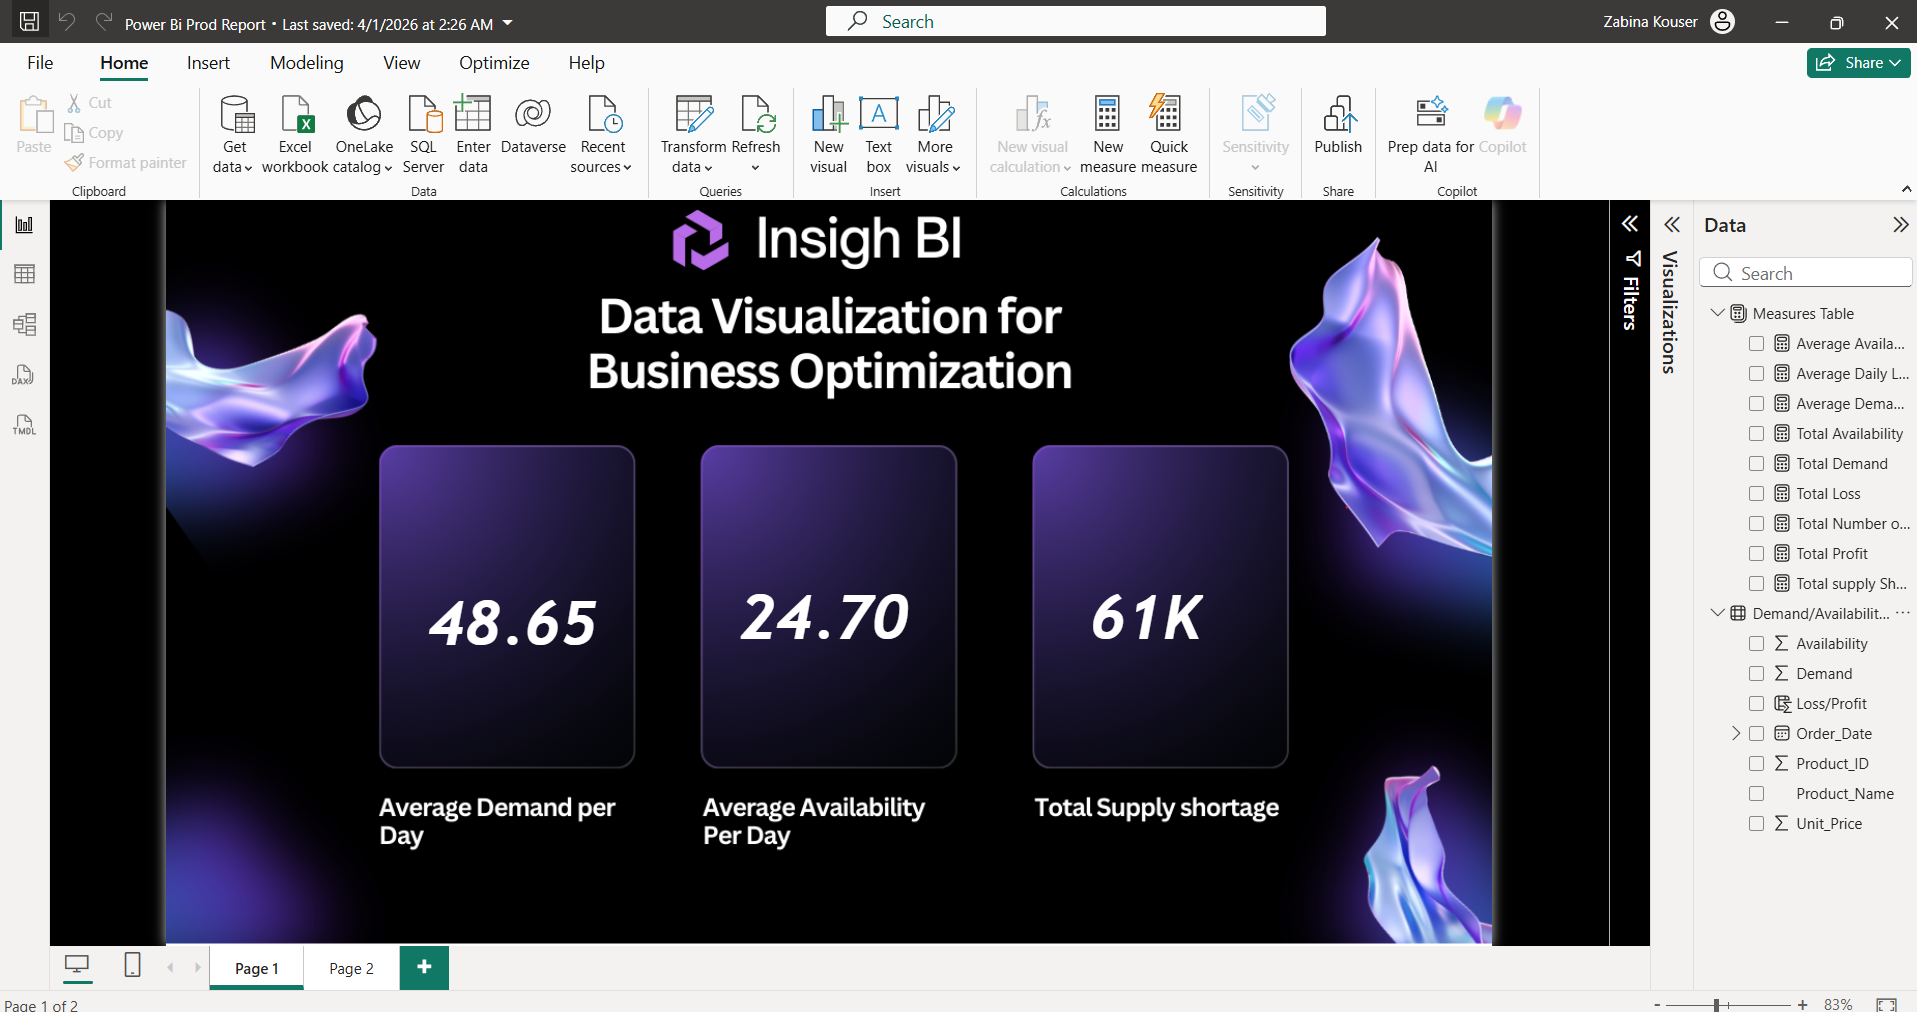

The dashboard page shown, as its layout file describes it:
{"tool":"powerbi","page":{"name":"Page 1","canvas":[1280,720],"ordinal":0},"visuals":[{"type":"cardVisual","fields":{"Data":["Measures Table.Average Demand per Day"]},"box":[224.4,287.1,222,241.3],"z":0},{"type":"cardVisual","fields":{"Data":["Measures Table.Average Availability Per Day"]},"box":[524.8,275.1,234,253.4],"z":1000},{"type":"cardVisual","fields":{"Data":["Measures Table.Total supply Shortage"]},"box":[862.6,275.1,205.1,253.4],"z":2000}]}

Visuals, with their boxes on the page's 1280x720 design canvas (x1, y1, x2, y2). These are canvas units, not pixel positions in the 1917x1012 screenshot, which may show the page scaled, cropped or inside an application window:
cardVisual - Measures Table.Average Demand per Day: l=224, t=287, r=446, b=528
cardVisual - Measures Table.Average Availability Per Day: l=525, t=275, r=759, b=528
cardVisual - Measures Table.Total supply Shortage: l=863, t=275, r=1068, b=528
